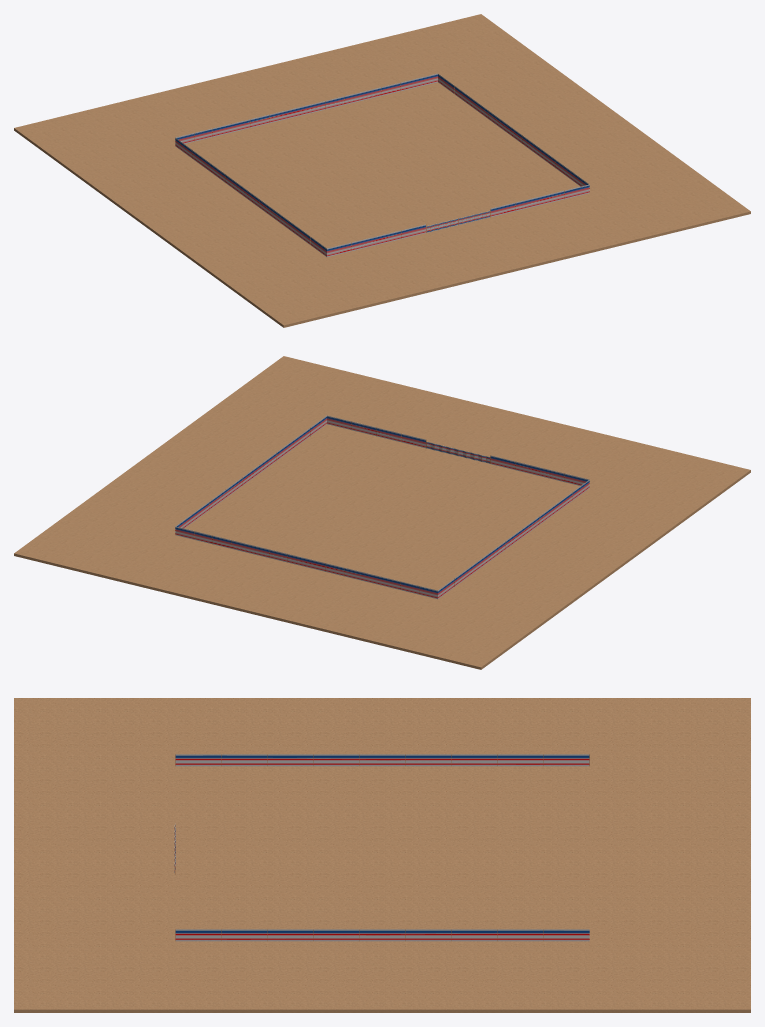
Rendered from Ground.fbx.
3 renders of one model, top to bottom at view 1: azimuth 30°, elevation 25°; view 2: azimuth 150°, elevation 25°; view 3: azimuth 270°, elevation 25°, orthographic. The views are drawn at different scales.
Visible parts, largest first — view 1: Plane, Plane.001; view 2: Plane, Plane.001; view 3: Plane, Plane.001.
Part boxes in pixels (x1,y1,x2,y2): Plane: [14, 14, 750, 327]; Plane.001: [175, 73, 589, 257]; Plane: [14, 356, 750, 669]; Plane.001: [175, 415, 589, 599]; Plane: [14, 698, 750, 1012]; Plane.001: [175, 754, 589, 941].
Bounding box in the file's own units: 292 × 6.79 × 292.
